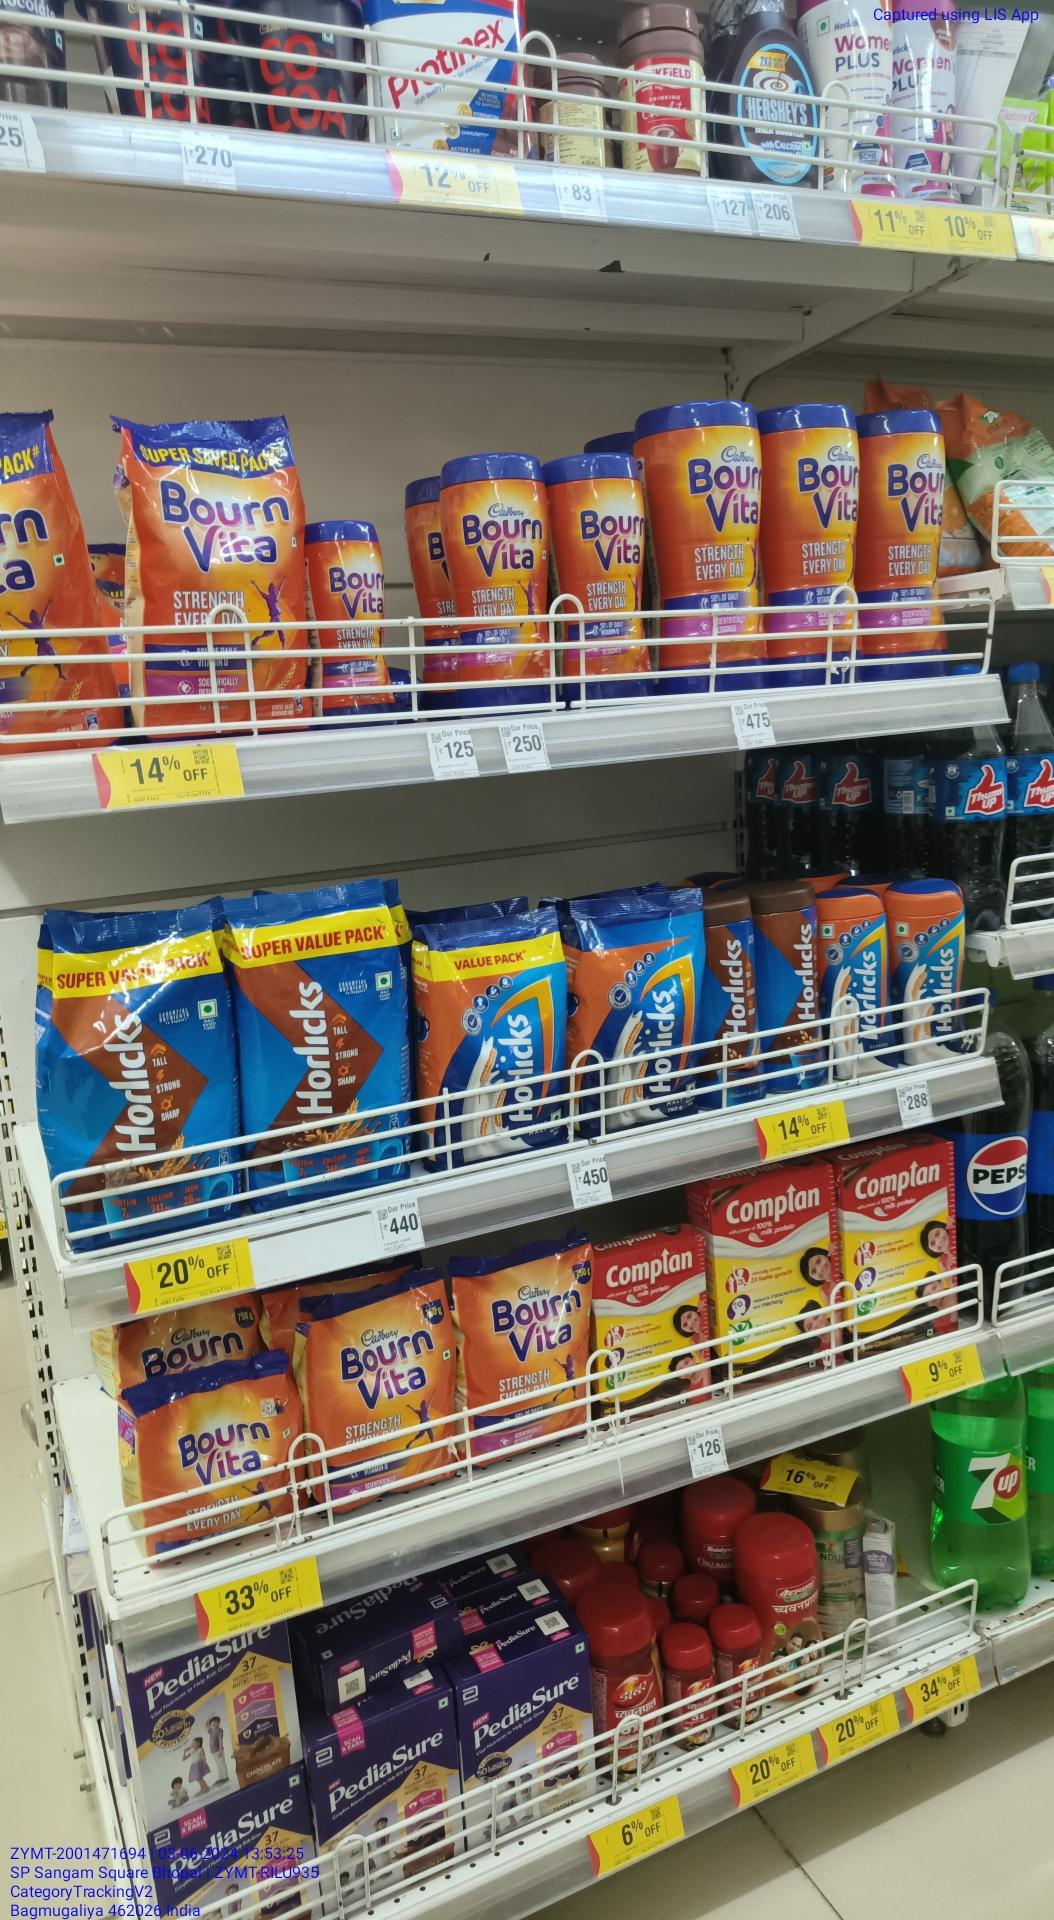BOURN_VITA_1_KG_JAR: (658, 394, 763, 694), (768, 401, 868, 685), (875, 409, 950, 677)
BOURN_VITA_200_G_JAR: (318, 514, 397, 728)
BOURN_VITA_500_G_JAR: (443, 446, 548, 703), (558, 453, 652, 703)
BOURN_VITA_500_G_POUCH: (132, 1375, 306, 1552)
BOURN_VITA_750_G_POUCH: (130, 413, 314, 728), (315, 1284, 449, 1492), (467, 1258, 588, 1449)
COMPLAN_CHOCOLATE_200_GMS_PACK: (598, 1248, 709, 1413)
COMPLAN_CHOCOLATE_500_GMS_JAR: (717, 1190, 842, 1373), (849, 1166, 955, 1338)
HORLICK_CHOCOLATE_500_G_JAR: (762, 891, 823, 1092), (702, 904, 761, 1103)
HORLICK_CHOCOLATE_750_G_POUCH: (51, 926, 238, 1216), (238, 893, 415, 1186)
HORLICK_CLASSIC_MALT_500_G_JAR: (893, 883, 970, 1065), (826, 900, 892, 1077)
HORLICK_CLASSIC_MALT_750_G_POUCH: (421, 915, 571, 1152), (575, 898, 696, 1123)
